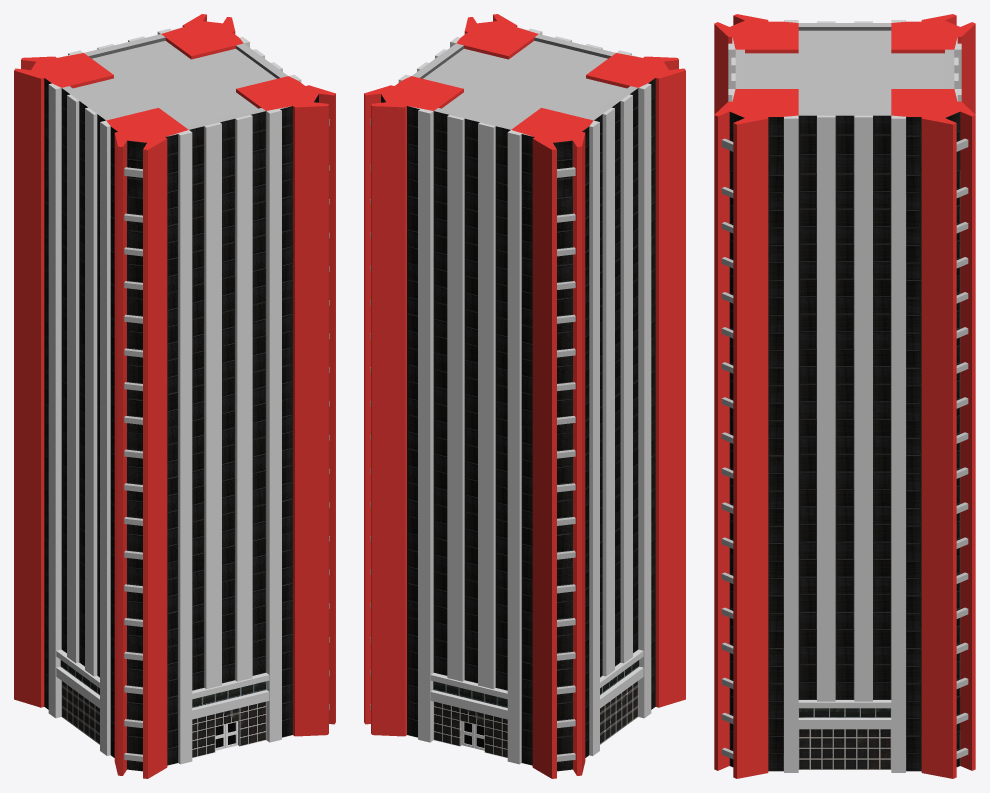
File: Tower-06.fbx
The picture shows the model from 3 angles, left to right: view 1: azimuth 30°, elevation 25°; view 2: azimuth 150°, elevation 25°; view 3: azimuth 270°, elevation 25°; orthographic projection. The views are drawn at different scales.
Parts seen in each view (by area): view 1: Building; view 2: Building; view 3: Building.
Part boxes in pixels (x1,y1,x2,y2): Building: (14, 14, 335, 778); Building: (364, 14, 685, 778); Building: (714, 14, 975, 778).
Size of what is drawn, in the model's own units: 20.29 by 56 by 20.29.
